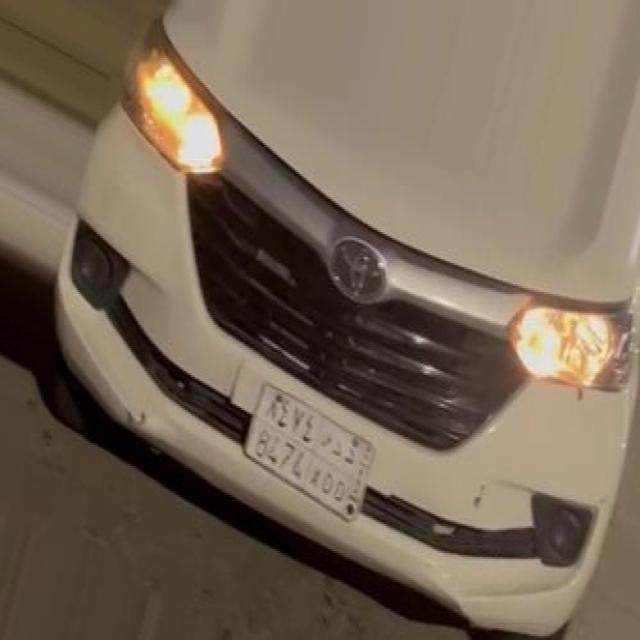Car-plate: (225, 356, 391, 545)
